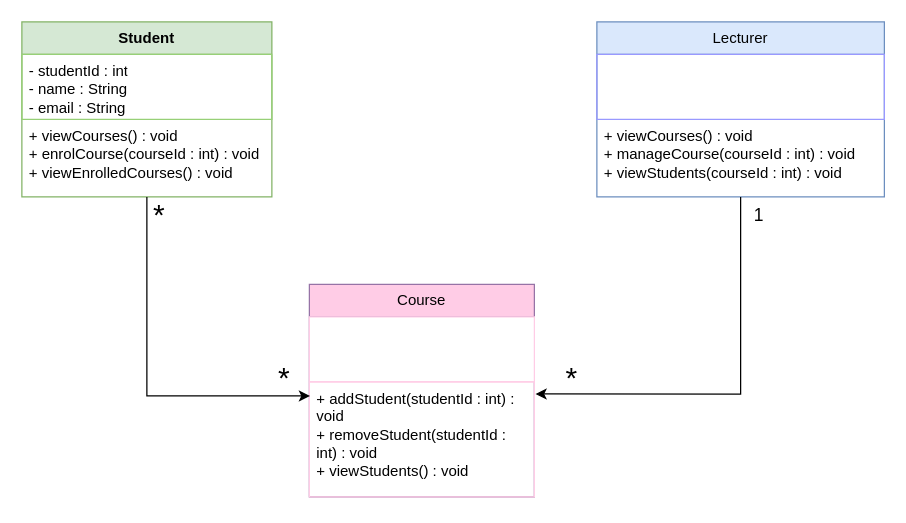
Some shapes in this 906 by 523 pixel diagram are drawn without their labels. Here are the shapes that lost their labels. From the top down, the box of each, then its label:
(596, 53, 884, 119): - lecturerId : int - name : String - email : String
(308, 316, 534, 382): - courseId : int - courseName : String - credits : int
